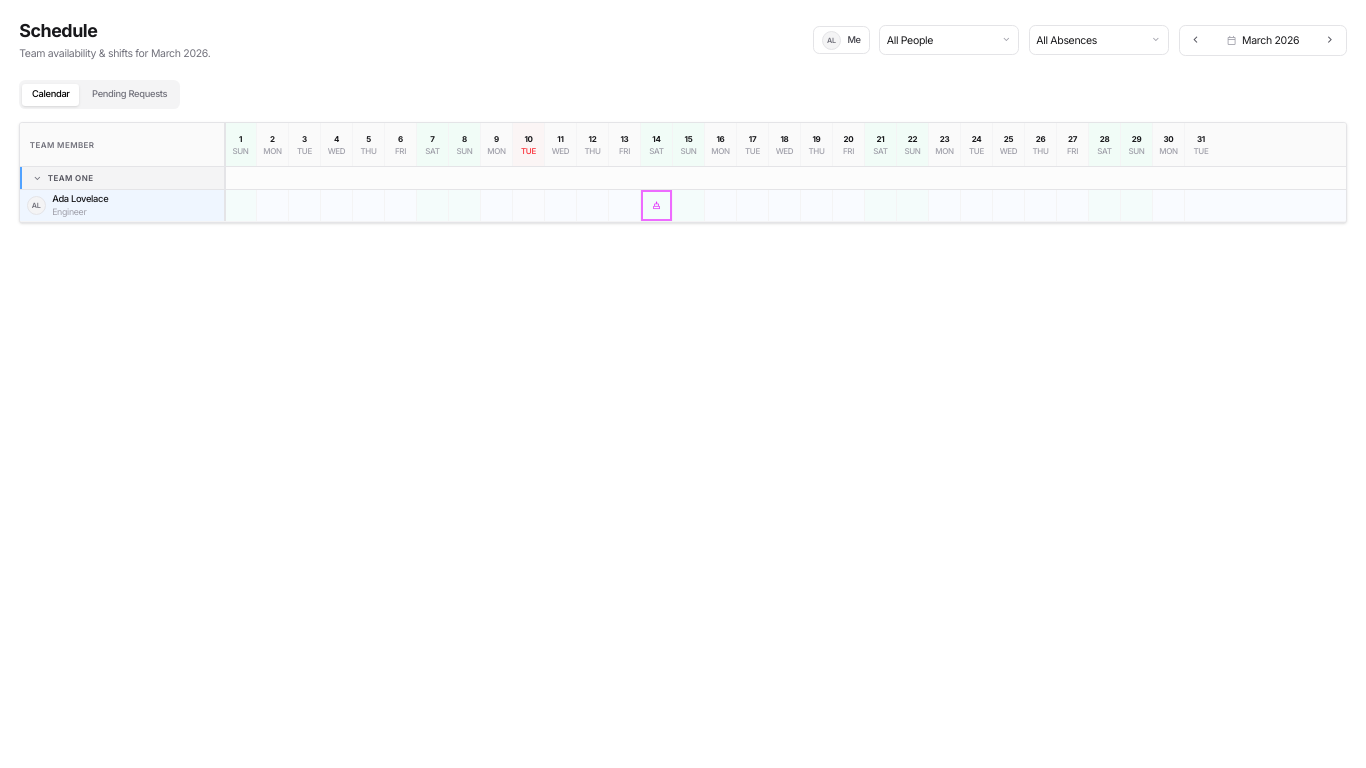
Scenario: schedule birthday highlight › shows the birthday in the member card
Click the text "Ada Lovelace". click: (80, 198)
box: x1=52 y1=193 x2=108 y2=204
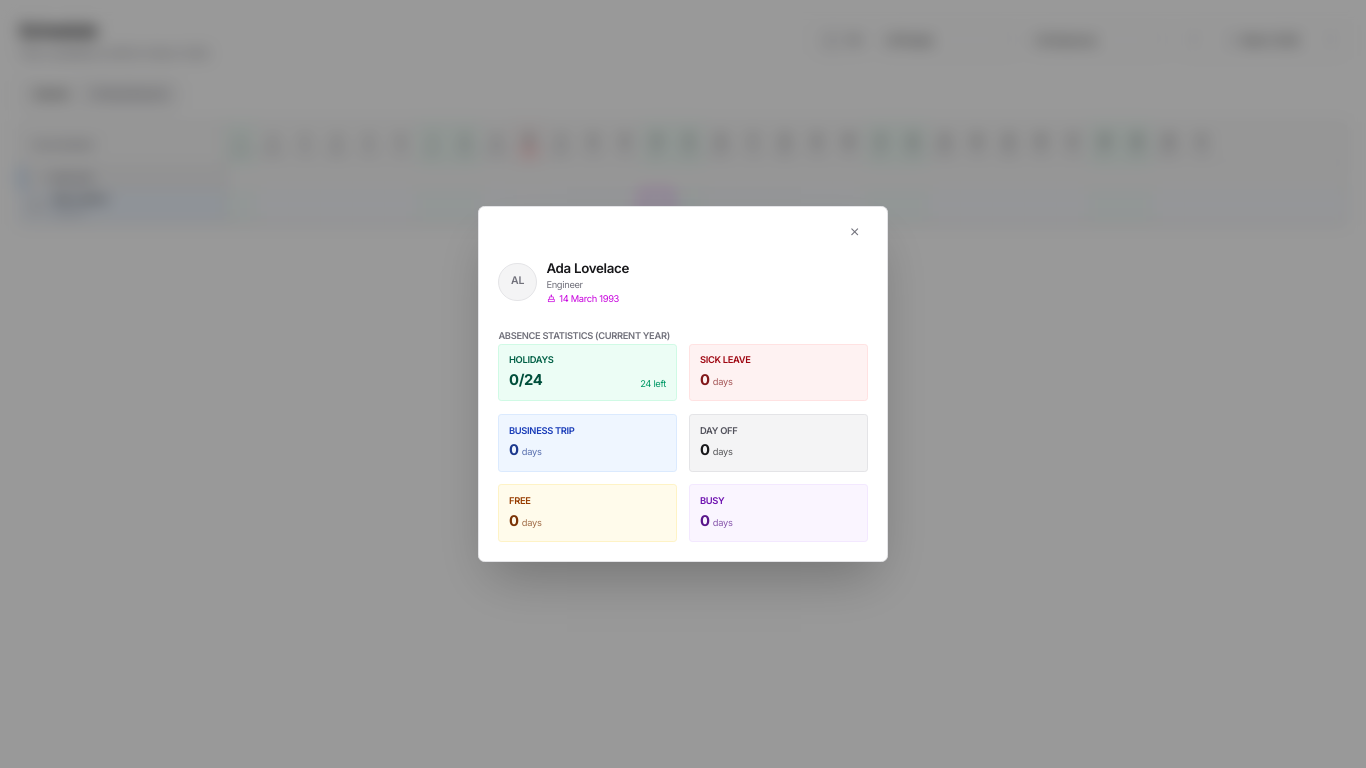
Check: the text "14 March 1993" is shown, box x1=546 y1=293 x2=629 y2=305
